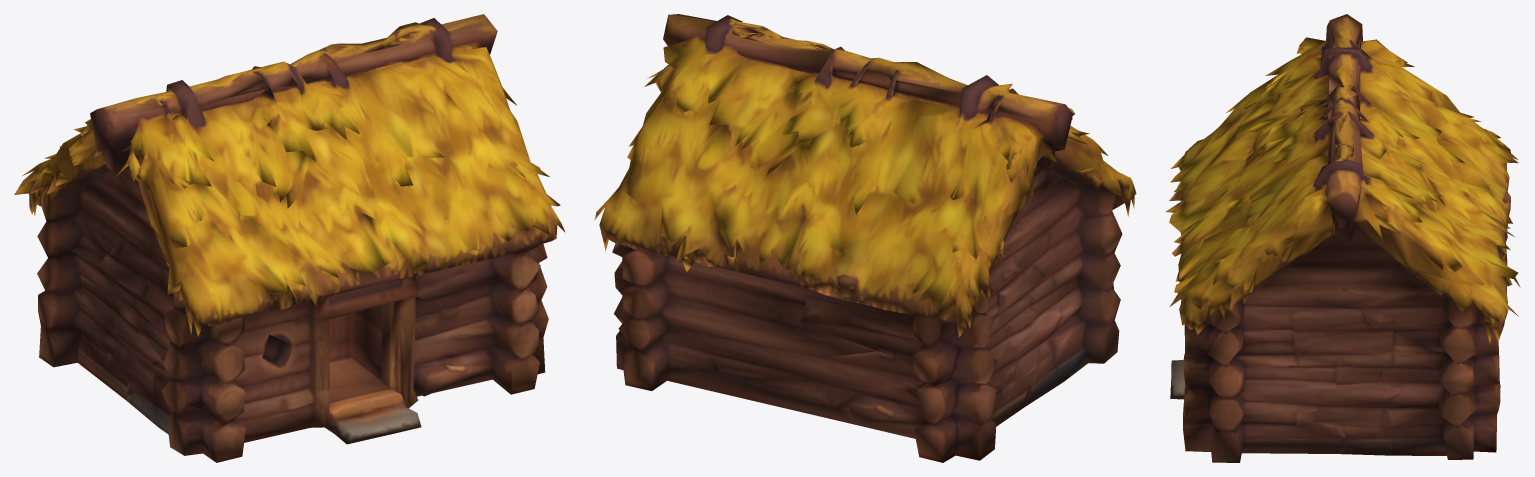
File: tripo_house_lod1.glb
The picture shows the model from 3 angles, left to right: view 1: azimuth 30°, elevation 25°; view 2: azimuth 150°, elevation 25°; view 3: azimuth 270°, elevation 25°; orthographic projection. The views are drawn at different scales.
Visible parts, largest first — view 1: house; view 2: house; view 3: house.
Part boxes in pixels (left/top/right/bottom): house: left=14, top=14, right=565, bottom=462; house: left=594, top=14, right=1136, bottom=462; house: left=1165, top=14, right=1520, bottom=462.
Size of the model in its own units: 4 by 3.01 by 3.36.
Materials: 1 (1 with a texture image).
